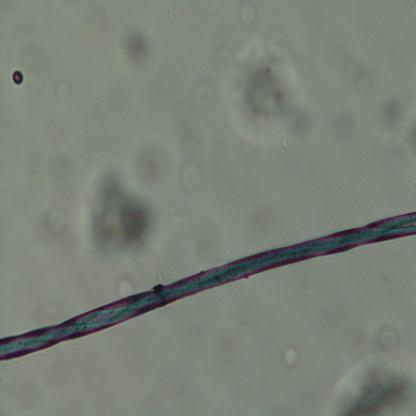Air bubble: (10, 68, 25, 88)
Background material: (229, 43, 314, 148), (77, 166, 164, 259), (325, 357, 416, 415), (375, 85, 416, 158), (118, 28, 160, 78), (179, 160, 205, 192), (375, 328, 401, 352), (237, 2, 257, 26), (282, 346, 301, 370), (115, 278, 138, 297)
Microfibre: (0, 209, 416, 363)
